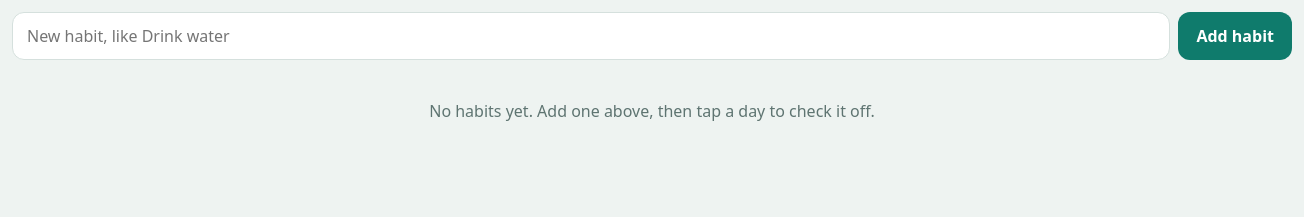
it: HabitTracker › HAB-02: shows the streak after checking consecutive days
The width and height of the screenshot is (1304, 217).
In the field labelled "New habit": (591, 36) [12,12,1170,60], type "Read"
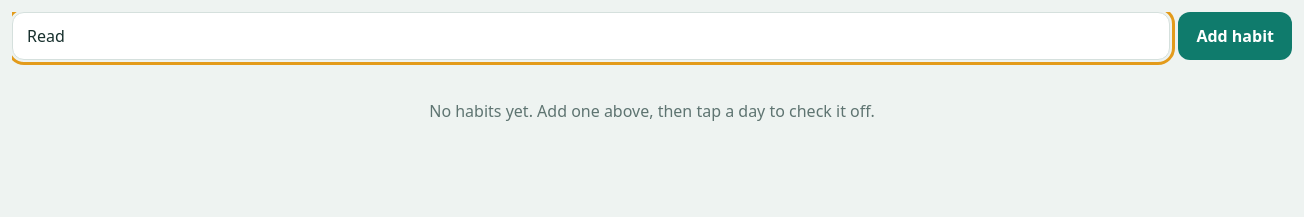
Click the button "Add habit": click(1235, 36) [1178,12,1292,60]
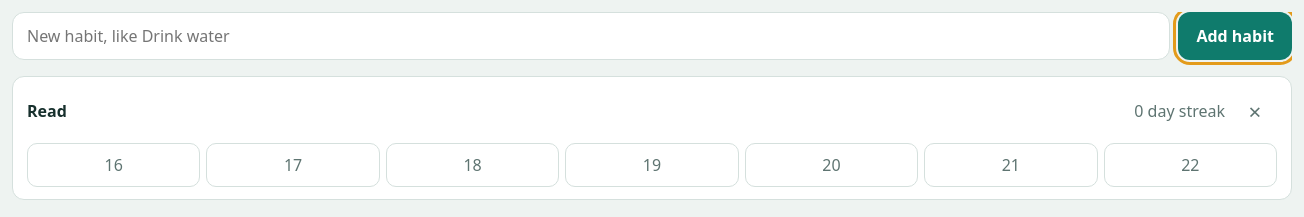
expect the text "0 day streak" is shown: met, box [1134,100,1225,122]
Click the button named "Read on 2026-11-21": click(1011, 165) [924,143,1098,187]
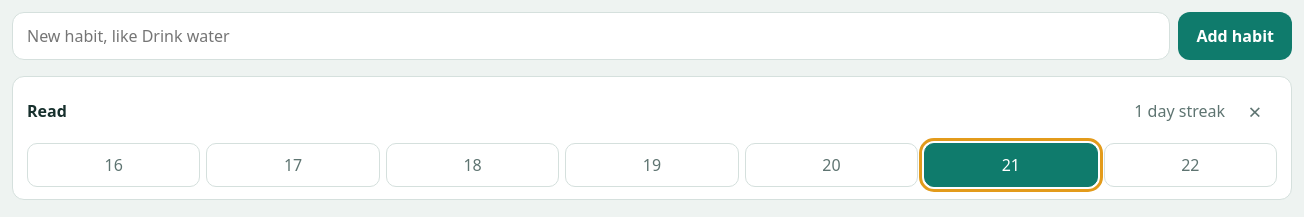
Click the button named "Read on 2026-11-22": click(1190, 165) [1104,143,1277,187]
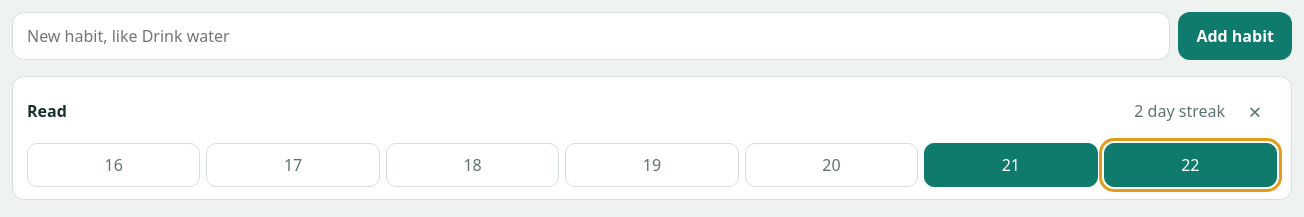
expect the text "2 day streak" is shown: met, box [1134,100,1225,122]
